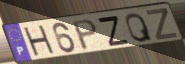6: (52, 22, 77, 55)
H: (22, 24, 59, 60)
P: (71, 18, 99, 52)
Q: (125, 12, 155, 44)
Z: (145, 7, 180, 41), (95, 14, 131, 47)
